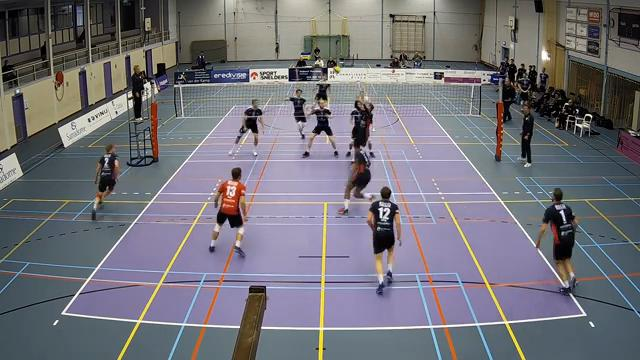Player: (536, 188, 577, 294), (367, 187, 401, 294), (209, 168, 246, 256), (338, 150, 374, 214), (303, 100, 338, 157), (92, 144, 118, 219), (229, 99, 263, 155), (289, 89, 306, 138), (315, 76, 329, 104)
Set: (350, 92, 375, 163)
ball: (333, 65, 341, 72)
